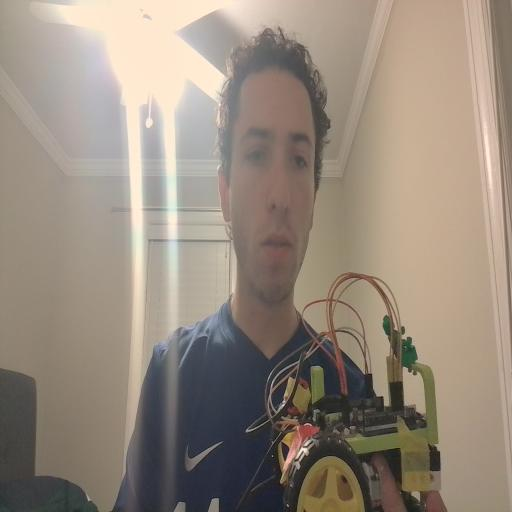green LEGO minifig: (380, 307, 418, 371)
